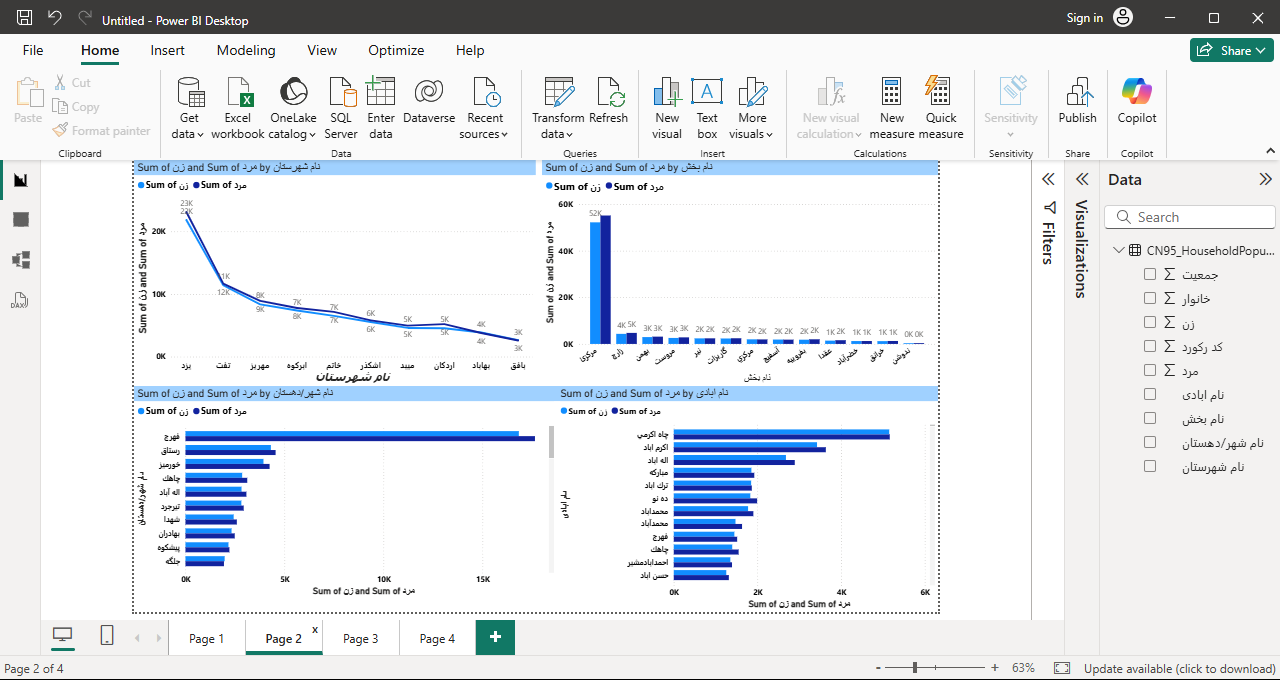

This screenshot's page, from the dashboard's own definition file:
{"tool":"powerbi","page":{"name":"Page 2","canvas":[1280,720],"ordinal":1},"visuals":[{"type":"clusteredBarChart","title":"جمعیت زن/مرد  بر اساس شهر/دهستان","fields":{"Y":["Sum(CN95_HouseholdPopulationVillage1.زن)","Sum(CN95_HouseholdPopulationVillage1.مرد)"],"Category":["CN95_HouseholdPopulationVillage1.نام شهر/دهستان"]},"box":[0,360,673.8,339.3],"z":0},{"type":"clusteredBarChart","title":"جمعیت زن/مرد  بر اساس ابادی","fields":{"Y":["Sum(CN95_HouseholdPopulationVillage1.زن)","Sum(CN95_HouseholdPopulationVillage1.مرد)"],"Category":["CN95_HouseholdPopulationVillage1.نام ابادی"]},"box":[673.8,360,606.9,360],"z":2},{"type":"lineChart","title":"جمعیت زن/مرد  بر اساس شهرستان","fields":{"Y":["Sum(CN95_HouseholdPopulationVillage1.زن)","Sum(CN95_HouseholdPopulationVillage1.مرد)"],"Category":["CN95_HouseholdPopulationVillage1.نام شهرستان"]},"box":[0,0,640.4,360],"z":3},{"type":"clusteredColumnChart","title":"جمعیت زن/مرد  بر اساس بخش","fields":{"Y":["Sum(CN95_HouseholdPopulationVillage1.زن)","Sum(CN95_HouseholdPopulationVillage1.مرد)"],"Category":["CN95_HouseholdPopulationVillage1.نام بخش"]},"box":[649.9,0,630.8,360],"z":4}]}

Visuals, with their boxes on the page's 1280x720 design canvas (x1, y1, x2, y2). These are canvas units, not pixel positions in the 1280x680 screenshot, which may show the page scaled, cropped or inside an application window:
"جمعیت زن/مرد  بر اساس شهر/دهستان" clusteredBarChart: l=0, t=360, r=674, b=699
"جمعیت زن/مرد  بر اساس ابادی" clusteredBarChart: l=674, t=360, r=1281, b=720
"جمعیت زن/مرد  بر اساس شهرستان" lineChart: l=0, t=0, r=640, b=360
"جمعیت زن/مرد  بر اساس بخش" clusteredColumnChart: l=650, t=0, r=1281, b=360
